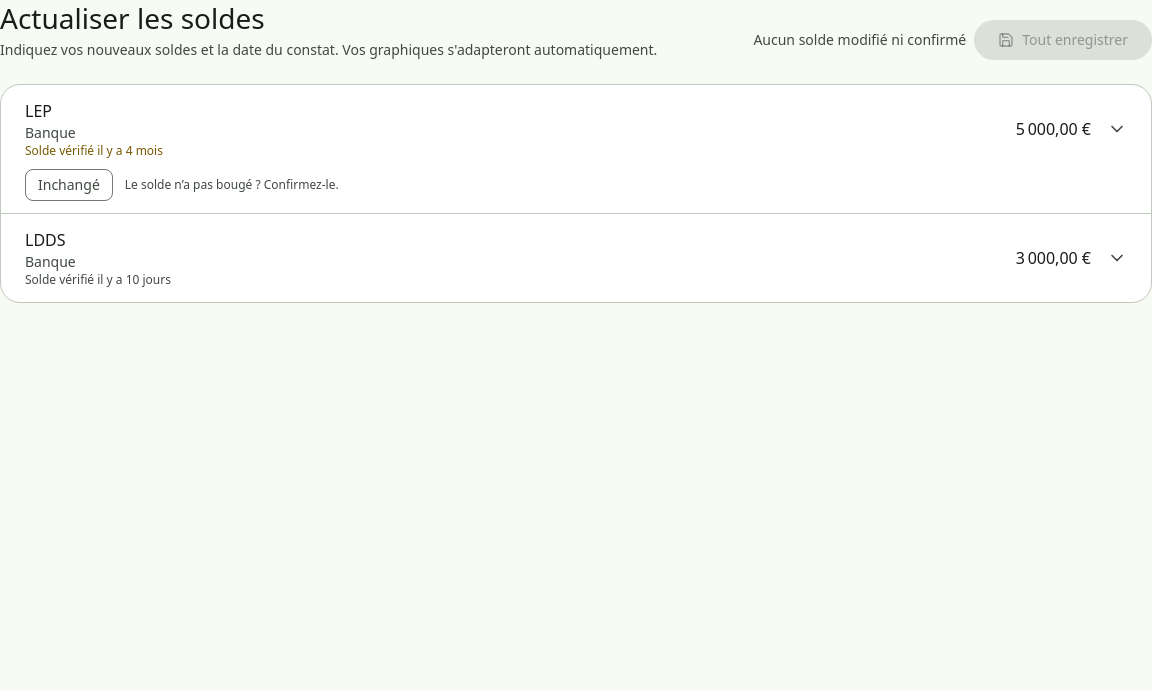
Actualiser : « Inchangé » › chaque ligne dit depuis quand le solde est vérifié ; « Inchangé » d’office pour un solde à revérifier
Expected: the text "Solde vérifié il y a 10 jours" is shown, [25,271,171,288]
Expected: the button with aria-label "Solde de LEP inchangé" is shown, [25,169,113,201]
Click the button "LDDS Banque Solde vérifié il y a 10 jours 3 000,00 €".
click(45, 240)  # box [1,214,1151,302]
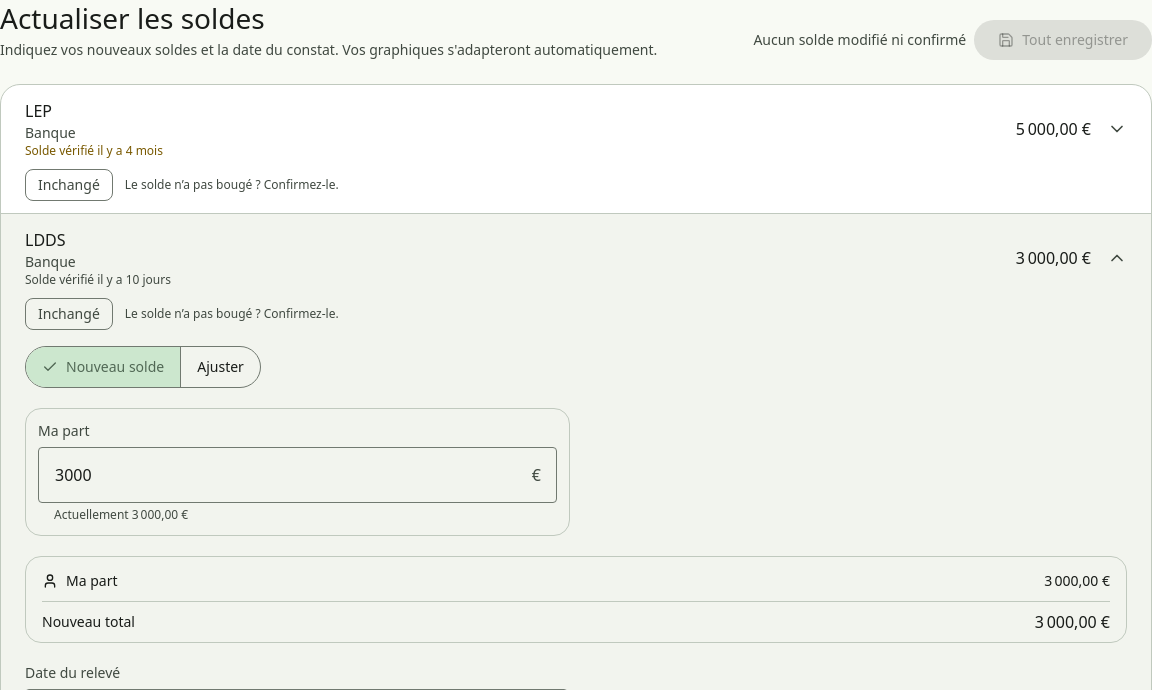
Expected: the button with aria-label "Solde de LDDS inchangé" is shown, [25,298,113,330]
